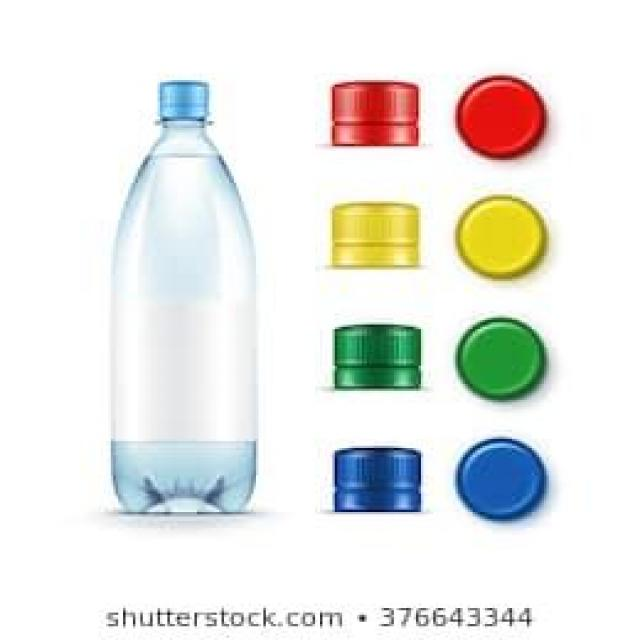plastic_bottle: (106, 79, 266, 511)
